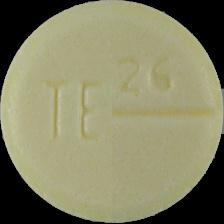63187-173: (0, 0, 224, 224)
